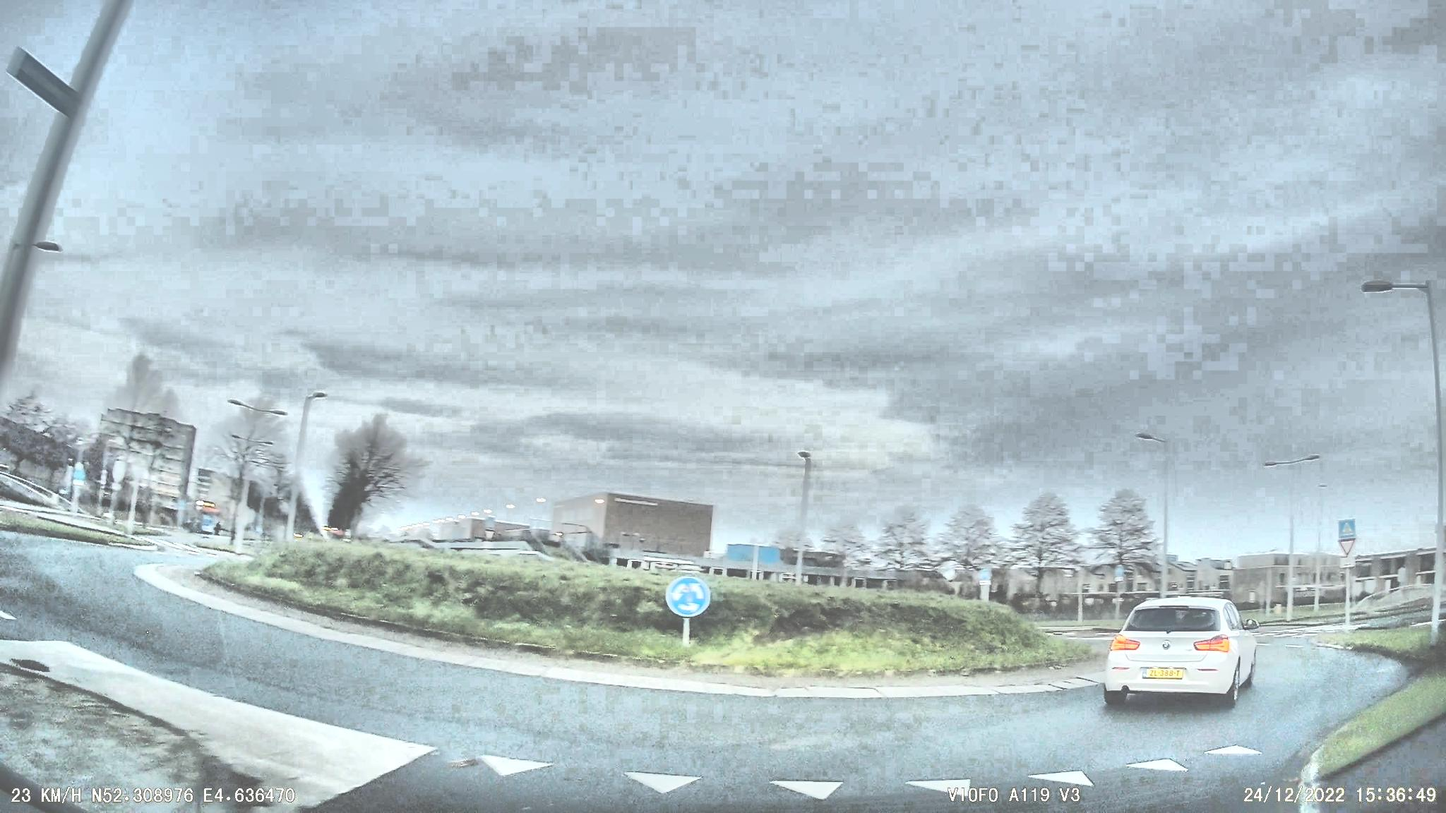Roads: (0, 532, 1418, 813)
